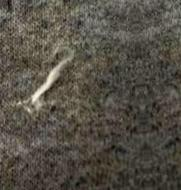snag: (27, 49, 77, 112)
